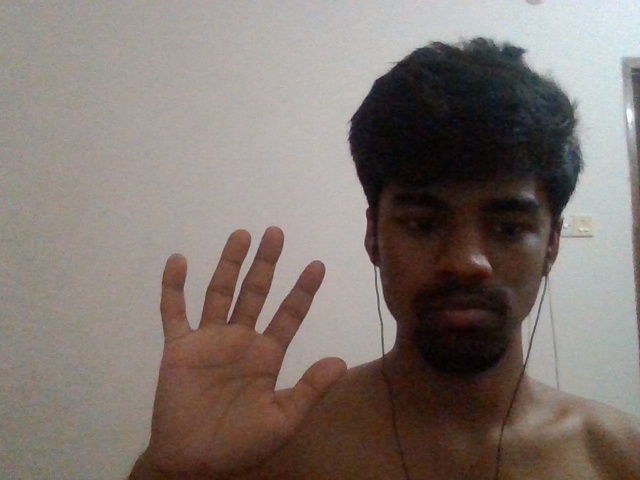Hello: (153, 217, 358, 477)
